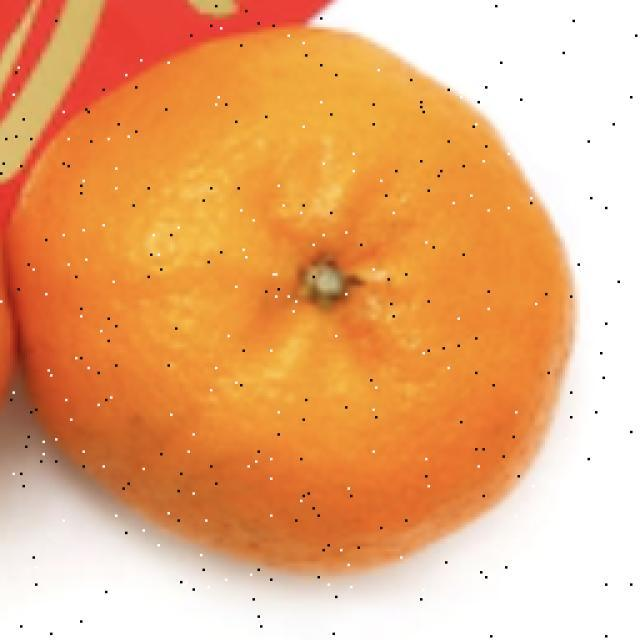Orange: (4, 23, 574, 574)
